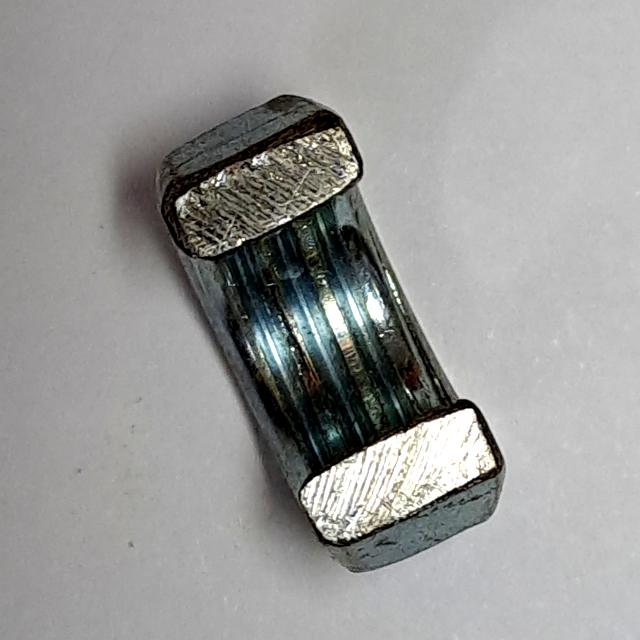Side-Fracture: (145, 74, 520, 592)
